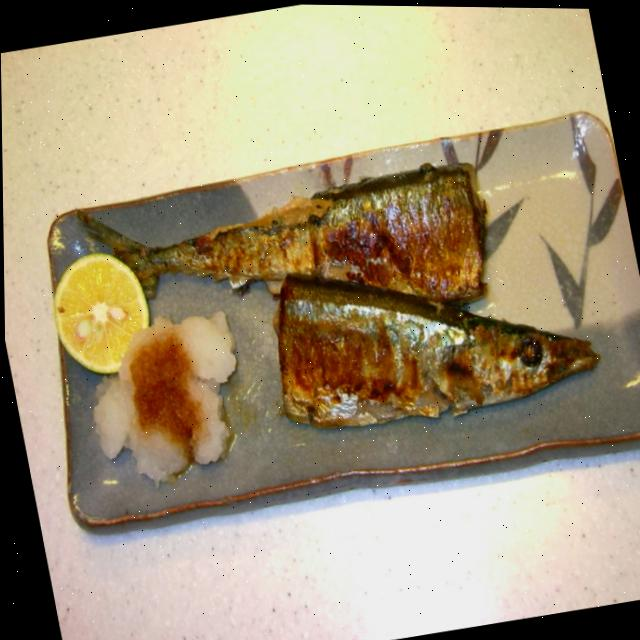熟制海鲜: (90, 132, 616, 461)
